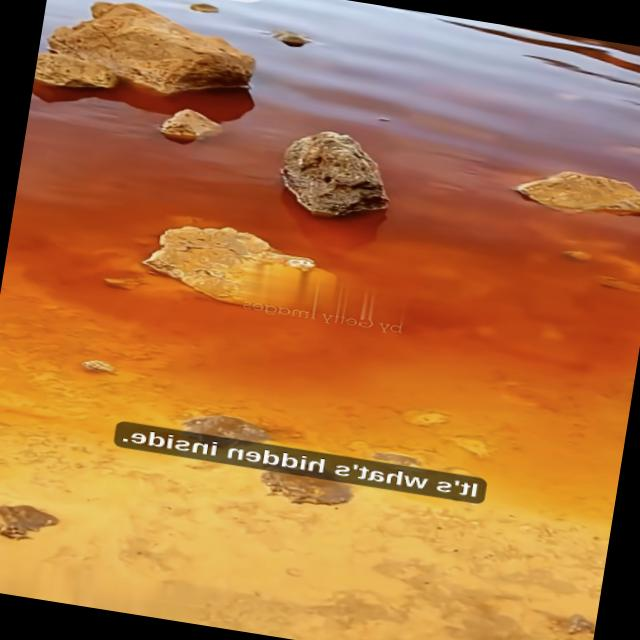yellow_boy: (0, 0, 640, 640)
